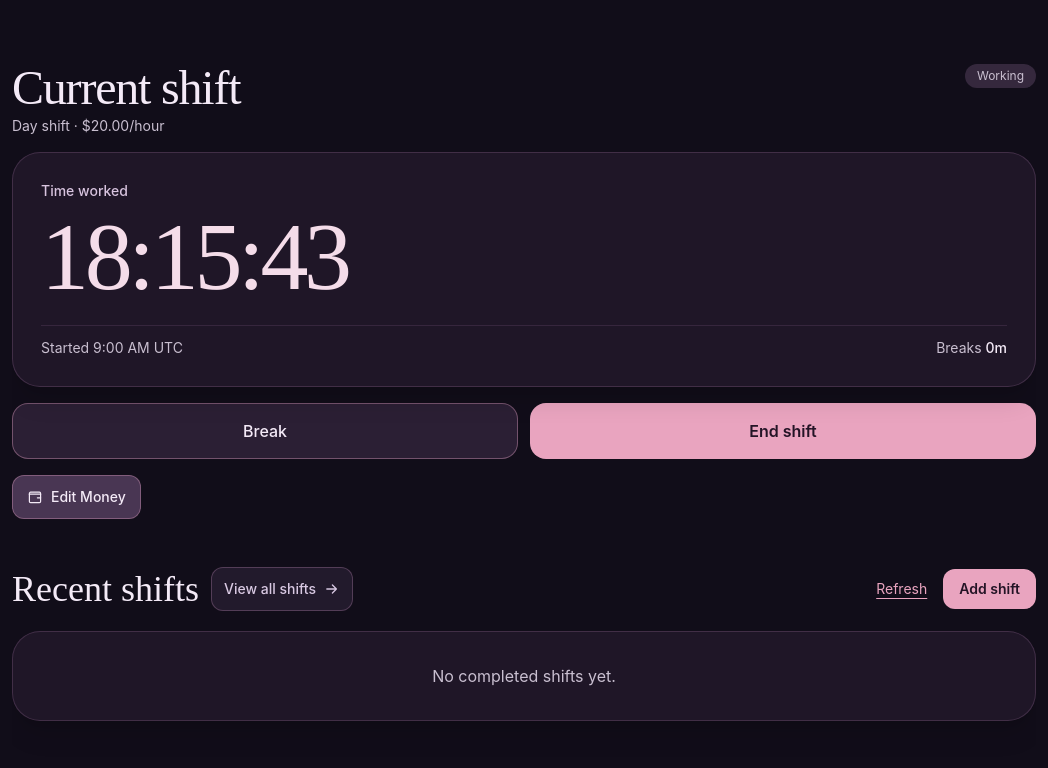
shift history navigation and list size › opens tips and withholding together from one Edit Money control on an active shift
Click the button "Edit Money" at x=76, y=497, box top-left (12, 475), bottom-right (141, 519)
(page scrolled)
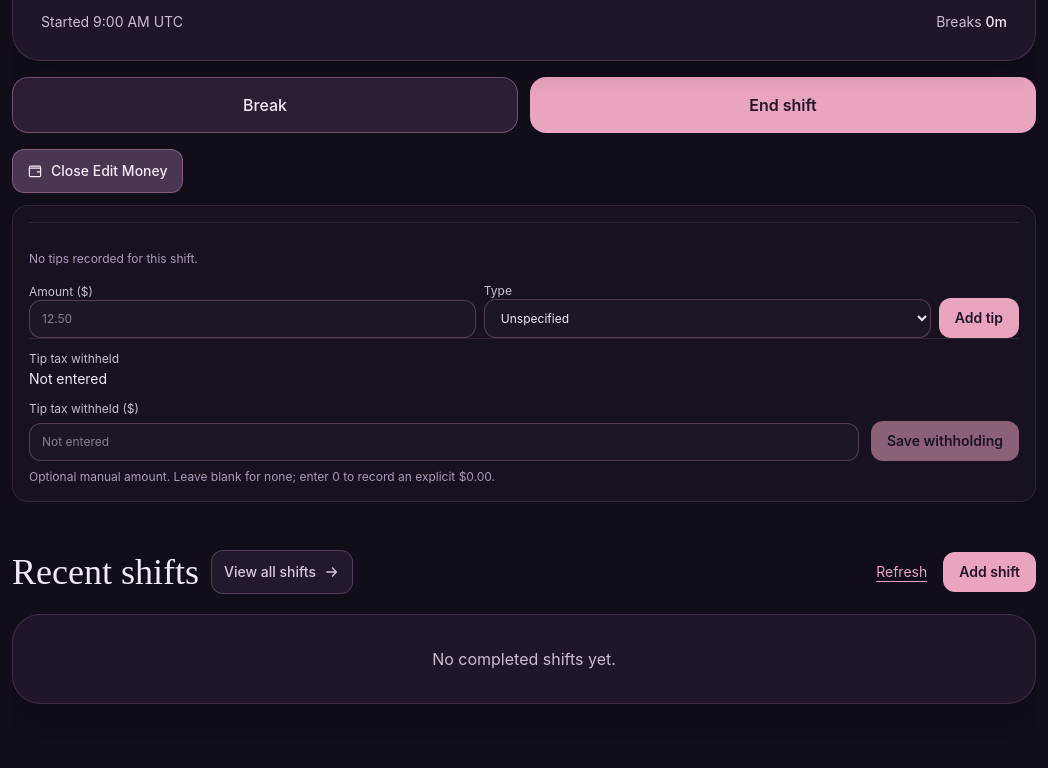
Check: the form "Add tip" is shown, box top-left (29, 283), bottom-right (1019, 338)
Check: the field labelled "Tip tax withheld ($)" is shown, box top-left (29, 423), bottom-right (859, 461)
